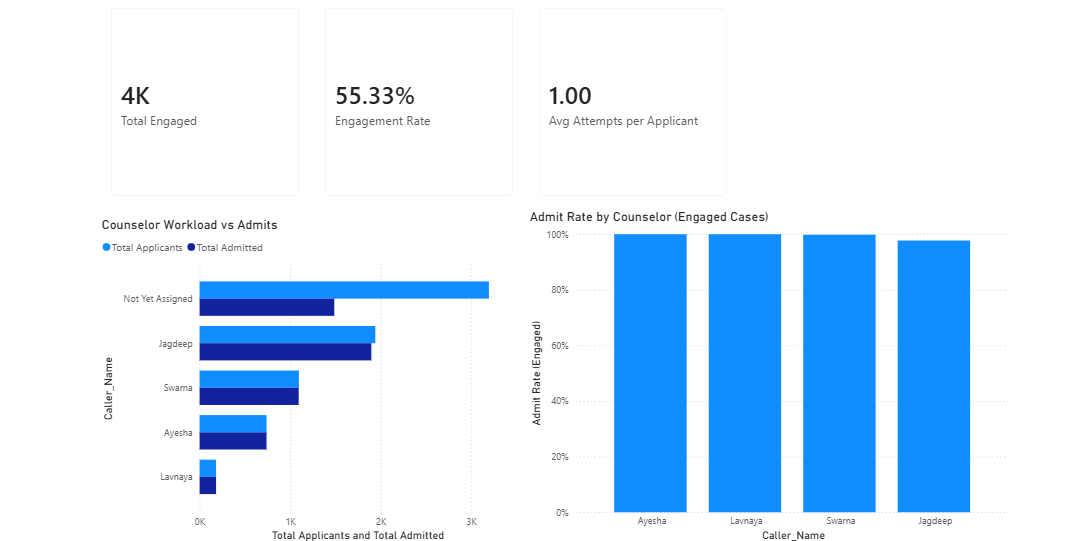

What the dashboard file says about the page in this screenshot:
{"tool":"powerbi","page":{"name":"Counselor Engagement","canvas":[1280,720],"ordinal":2},"visuals":[{"type":"cardVisual","fields":{"Data":["Applicant_Data.Total Engaged"]},"box":[0,0,280,280],"z":0},{"type":"cardVisual","fields":{"Data":["Applicant_Data.Engagement Rate"]},"box":[280,0,280,280],"z":1000},{"type":"cardVisual","fields":{"Data":["Applicant_Data.Avg Attempts per Applicant"]},"box":[560,0,280,280],"z":2000},{"type":"clusteredBarChart","title":"Counselor Workload vs Admits","fields":{"Category":["Applicant_Data.Caller_Name"],"Y":["Applicant_Data.Total Applicants","Applicant_Data.Total Admitted"]},"box":[0,290,560,430],"z":3000},{"type":"clusteredColumnChart","title":"Admit Rate by Counselor (Engaged Cases)","fields":{"Category":["Applicant_Data.Caller_Name"],"Y":["Applicant_Data.Admit Rate (Engaged)"]},"box":[560,280,640,440],"z":4000}]}

Visuals, with their boxes on the page's 1280x720 design canvas (x1, y1, x2, y2). These are canvas units, not pixel positions in the 1077x541 screenshot, which may show the page scaled, cropped or inside an application window:
cardVisual - Applicant_Data.Total Engaged: (x1=0, y1=0, x2=280, y2=280)
cardVisual - Applicant_Data.Engagement Rate: (x1=280, y1=0, x2=560, y2=280)
cardVisual - Applicant_Data.Avg Attempts per Applicant: (x1=560, y1=0, x2=840, y2=280)
"Counselor Workload vs Admits" clusteredBarChart: (x1=0, y1=290, x2=560, y2=720)
"Admit Rate by Counselor (Engaged Cases)" clusteredColumnChart: (x1=560, y1=280, x2=1200, y2=720)
